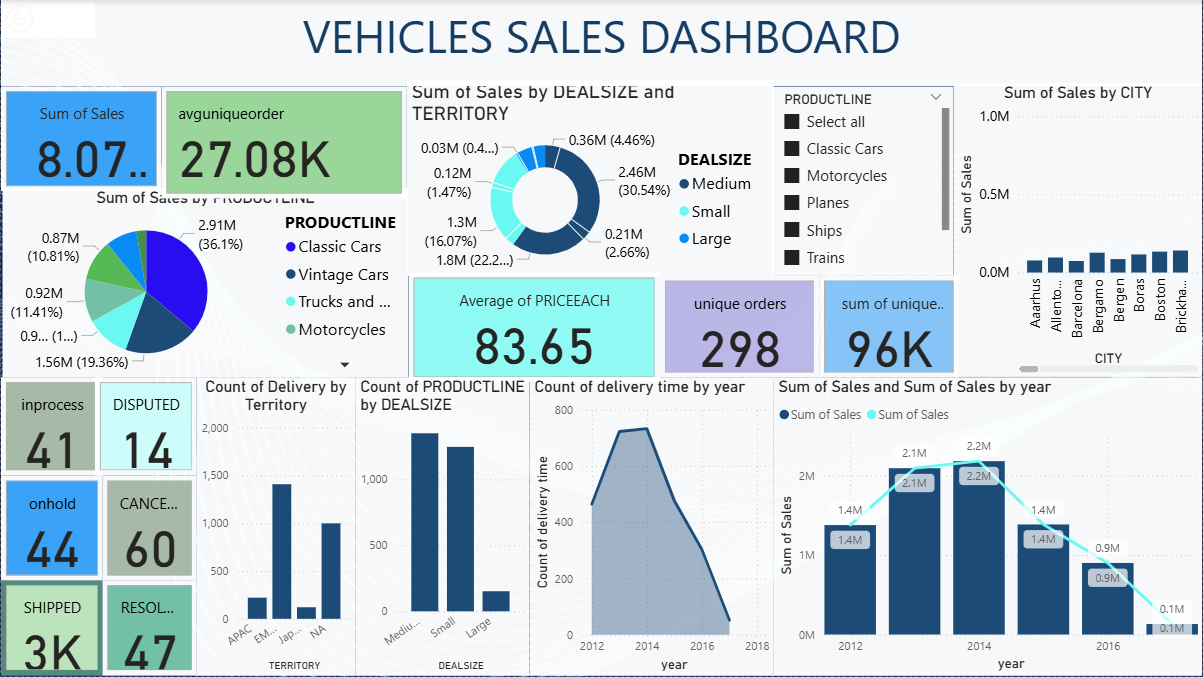

The dashboard page shown, as its layout file describes it:
{"tool":"powerbi","page":{"name":"Page 1","canvas":[1280,720],"ordinal":0},"visuals":[{"type":"cardVisual","fields":{"Data":["Sum(Sheet1.Sales)"]},"box":[0,92,171.1,111.4],"z":0},{"type":"donutChart","fields":{"Y":["Sum(Sheet1.Sales)"],"Category":["Sheet1.DEALSIZE"],"Series":["Sheet1.TERRITORY"]},"box":[432.6,85.6,390.7,208.3],"z":1000},{"type":"columnChart","fields":{"Category":["Sheet1.TERRITORY","Sheet1.COUNTRY","Sheet1.STATE","Sheet1.CITY"],"Y":["Sum(Sheet1.Sales)"]},"box":[1015.4,88.8,264.8,313.2],"z":2000},{"type":"pieChart","fields":{"Y":["Sum(Sheet1.Sales)"],"Category":["Sheet1.PRODUCTLINE"]},"box":[1.6,200.2,432.6,201.8],"z":3000},{"type":"actionButton","box":[0,0,100,40],"z":4000},{"type":"cardVisual","title":"Avg PRICE EACH","fields":{"Data":["Avg(Sheet1.PRICEEACH)"]},"box":[434.3,290.6,268,116.2],"z":5000},{"type":"textbox","box":[0,0,1280.2,92],"z":6000},{"type":"slicer","fields":{"Values":["Sheet1.PRODUCTLINE"]},"box":[821.7,92,193.7,201.8],"z":7000},{"type":"cardVisual","fields":{"Data":["Sheet1.sum of unique order"]},"box":[871.7,293.8,148.5,108.2],"z":8000},{"type":"lineChart","fields":{"Category":["Sheet1.year","Sheet1.month","Sheet1.quarter"],"Y":["CountNonNull(Sheet1.delivery time)"]},"box":[563.4,402,259.9,318],"z":9000},{"type":"lineClusteredColumnComboChart","fields":{"Y":["Sum(Sheet1.Sales)"],"Category":["Sheet1.year","Sheet1.month","Sheet1.quarter"],"Y2":["Sum(Sheet1.Sales)"]},"box":[823.3,402,456.9,318],"z":10000},{"type":"clusteredColumnChart","fields":{"Category":["Sheet1.DEALSIZE"],"Y":["CountNonNull(Sheet1.PRODUCTLINE)"]},"box":[377.8,402,185.7,318],"z":11000},{"type":"clusteredColumnChart","title":"Count of Delivery by Territory","fields":{"Category":["Sheet1.TERRITORY","Sheet1.COUNTRY","Sheet1.STATE","Sheet1.CITY"],"Y":["CountNonNull(Sheet1.delivery time)"]},"box":[208.3,402,169.5,318],"z":12000},{"type":"cardVisual","fields":{"Data":["Sheet1.SHIPPED"]},"box":[0,618.3,108.2,101.7],"z":13000},{"type":"cardVisual","fields":{"Data":["Sheet1.CANCELLED"]},"box":[108.2,506.9,100.1,111.4],"z":14000},{"type":"cardVisual","fields":{"Data":["Sheet1.RESOLVED"]},"box":[108.2,618.3,100.1,101.7],"z":15000},{"type":"cardVisual","fields":{"Data":["Sheet1.onhold"]},"box":[0,506.9,108.2,111.4],"z":16000},{"type":"cardVisual","fields":{"Data":["Sheet1.inprocess"]},"box":[0,402,108.2,104.9],"z":17000},{"type":"cardVisual","fields":{"Data":["Sheet1.DISPUTED"]},"box":[100.1,402,108.2,104.9],"z":18000},{"type":"cardVisual","fields":{"Data":["Sheet1.no.of unique order"]},"box":[702.2,293.8,169.5,108.2],"z":19000},{"type":"cardVisual","fields":{"Data":["Sheet1.avguniqueorder"]},"box":[171.1,92,261.5,119.5],"z":20000}]}

Visuals, with their boxes in screenshot pixels (x1, y1, x2, y2), scaled from the page's 1280x720 canvas onto the 1203x677 screenshot:
cardVisual - Sum(Sheet1.Sales): (0,87,161,191)
donutChart - Sum(Sheet1.Sales) x Sheet1.DEALSIZE: (407,80,774,276)
columnChart - Sheet1.TERRITORY x Sheet1.COUNTRY: (954,83,1202,378)
pieChart - Sum(Sheet1.Sales) x Sheet1.PRODUCTLINE: (2,188,408,378)
actionButton: (0,0,94,38)
"Avg PRICE EACH" cardVisual: (408,273,660,383)
textbox: (0,0,1202,87)
slicer - Sheet1.PRODUCTLINE: (772,87,954,276)
cardVisual - Sheet1.sum of unique order: (819,276,959,378)
lineChart - Sheet1.year x Sheet1.month: (530,378,774,676)
lineClusteredColumnComboChart - Sum(Sheet1.Sales) x Sheet1.year: (774,378,1202,676)
clusteredColumnChart - Sheet1.DEALSIZE x CountNonNull(Sheet1.PRODUCTLINE): (355,378,530,676)
"Count of Delivery by Territory" clusteredColumnChart: (196,378,355,676)
cardVisual - Sheet1.SHIPPED: (0,581,102,676)
cardVisual - Sheet1.CANCELLED: (102,477,196,581)
cardVisual - Sheet1.RESOLVED: (102,581,196,676)
cardVisual - Sheet1.onhold: (0,477,102,581)
cardVisual - Sheet1.inprocess: (0,378,102,477)
cardVisual - Sheet1.DISPUTED: (94,378,196,477)
cardVisual - Sheet1.no.of unique order: (660,276,819,378)
cardVisual - Sheet1.avguniqueorder: (161,87,407,199)
